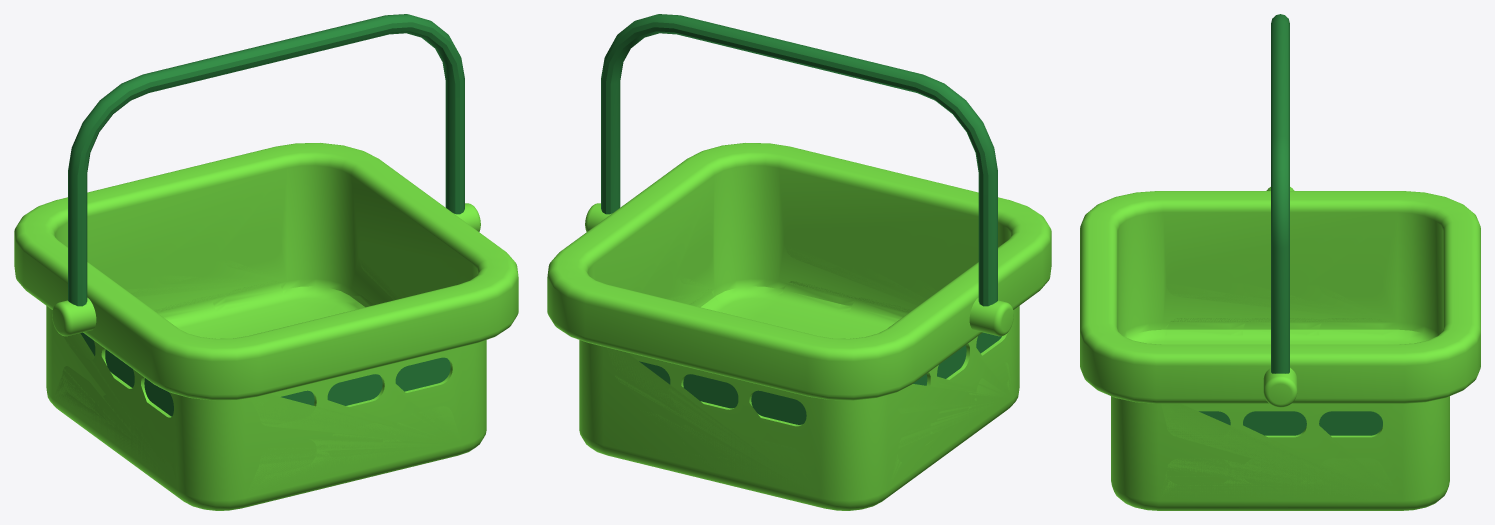
Rendered from sepet1.fbx.
3 views of the same model, side by side, from view 1: azimuth 30°, elevation 25°; view 2: azimuth 150°, elevation 25°; view 3: azimuth 270°, elevation 25° (orthographic). The views are drawn at different scales.
Parts seen in each view (by area): view 1: sepet1; view 2: sepet1; view 3: sepet1.
Part boxes in pixels (bbox=[...]): sepet1: bbox=[14, 14, 518, 510]; sepet1: bbox=[547, 14, 1051, 510]; sepet1: bbox=[1080, 14, 1480, 510].
Bounding box in the file's own units: 154 × 134 × 133.
